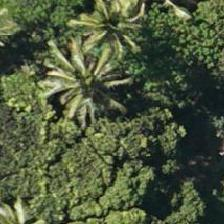coconut_tree: (45, 31, 135, 121), (68, 0, 158, 67)
